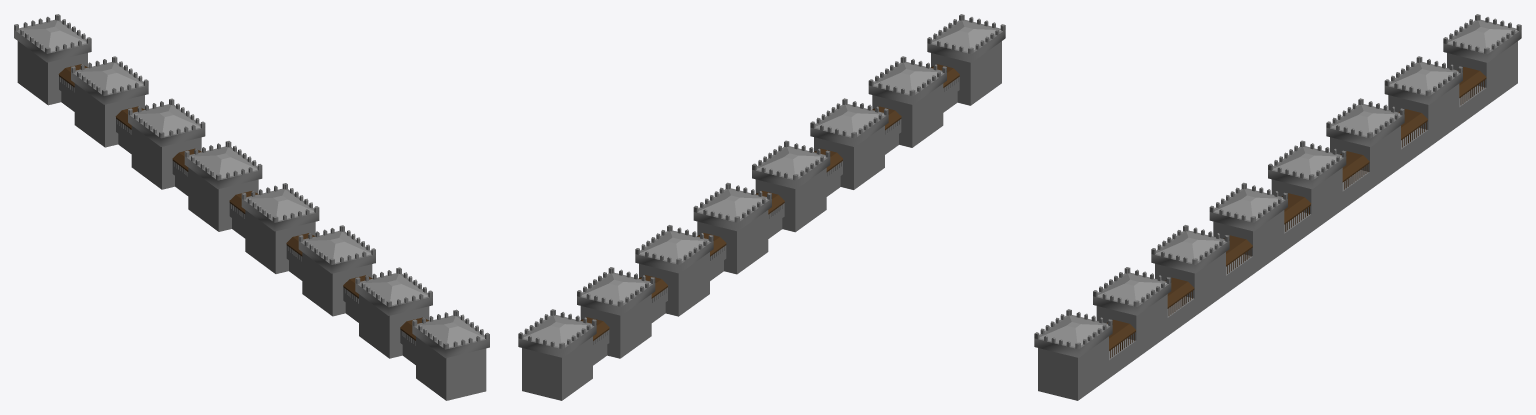
The model's file is Medieval Walls(2).glb.
3 renders of one model, left to right at view 1: azimuth 30°, elevation 25°; view 2: azimuth 150°, elevation 25°; view 3: azimuth 330°, elevation 25°, orthographic.
Visible parts, largest first — view 1: id0; view 2: id0; view 3: id0.
Boxes of the visible parts, bbox=[...] form: id0: bbox=[14, 14, 489, 400]; id0: bbox=[518, 14, 1005, 400]; id0: bbox=[1034, 14, 1521, 400].
Size of the model in its own units: 10.65 by 12.41 by 165.
